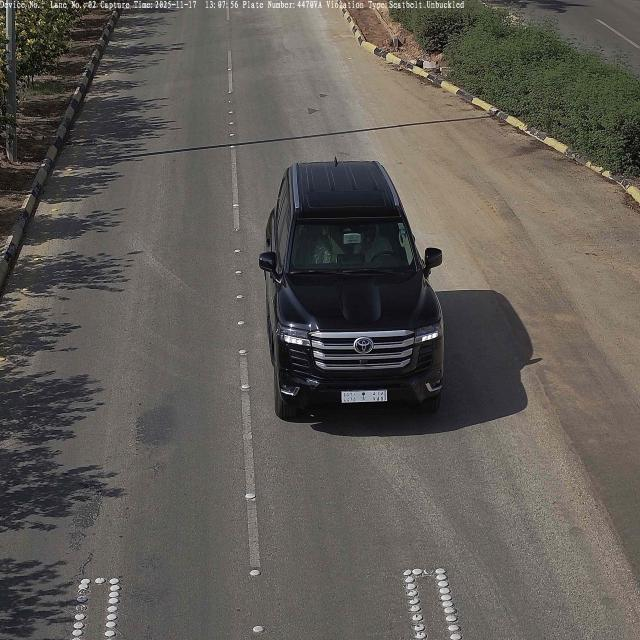person_without_seatbelt: (354, 219, 391, 264)
